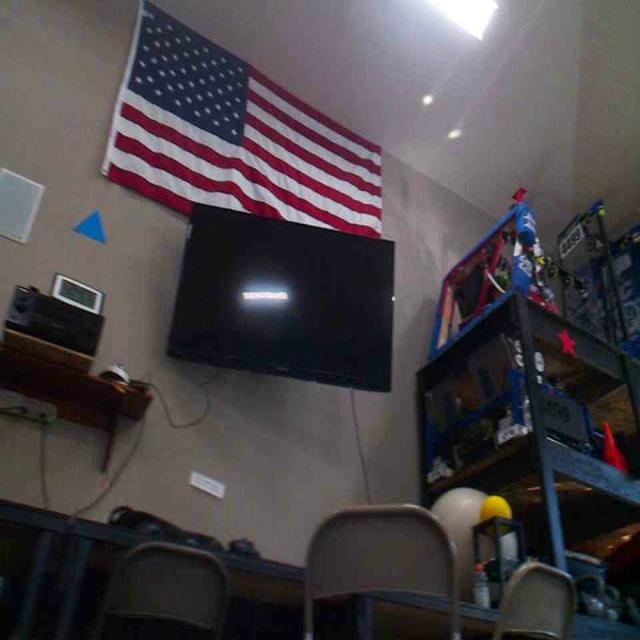star_red: (557, 326, 574, 356)
triangle_blue: (70, 208, 106, 245)
